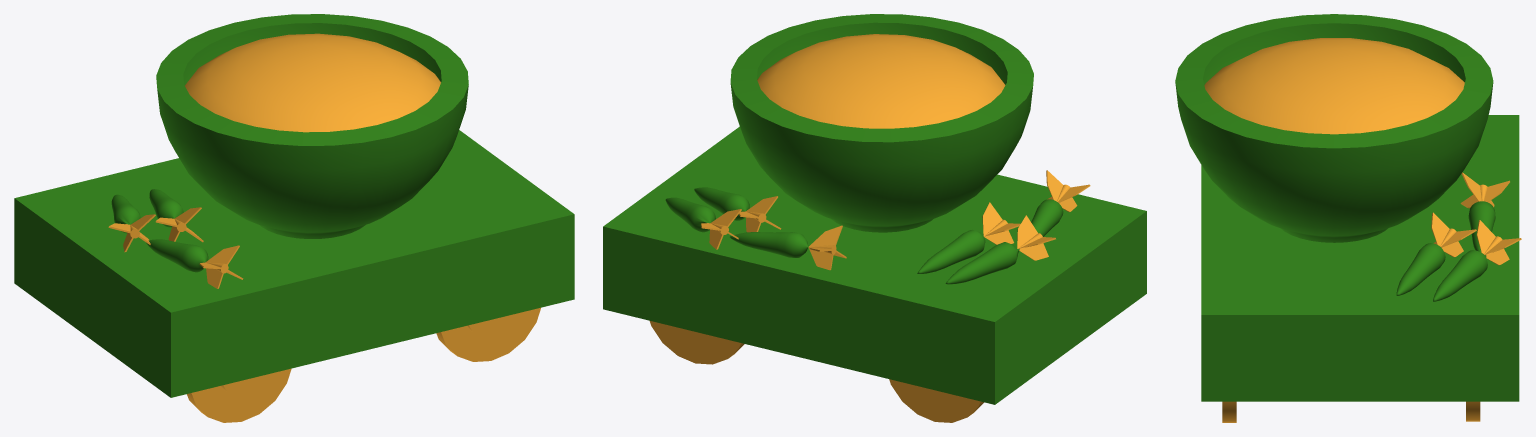
Rendered from Salad Bowl Float.FBX.
3 views of the same model, side by side, from view 1: azimuth 30°, elevation 25°; view 2: azimuth 150°, elevation 25°; view 3: azimuth 270°, elevation 25° (orthographic). The views are drawn at different scales.
Visible parts, largest first — view 1: Box01; view 2: Box01; view 3: Box01.
Part boxes in pixels (x1,y1,x2,y2): Box01: [14, 14, 574, 422]; Box01: [603, 14, 1146, 422]; Box01: [1175, 14, 1521, 422].
Bounding box in the file's own units: 45.52 × 31.28 × 33.32.
